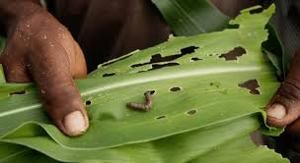fallarmy_worm: (122, 89, 162, 116)
